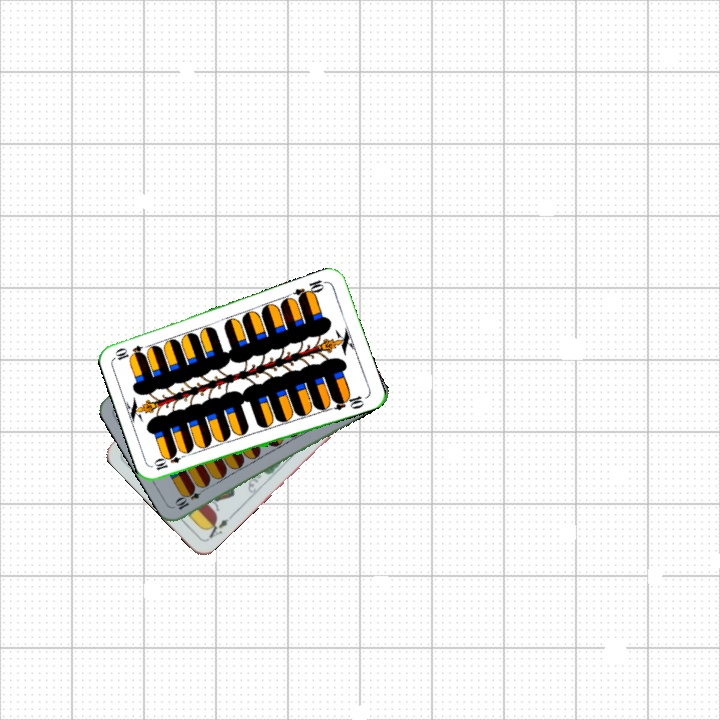E10: (171, 483, 209, 512), (290, 275, 329, 302), (150, 449, 190, 473)
EA: (200, 511, 236, 543)
